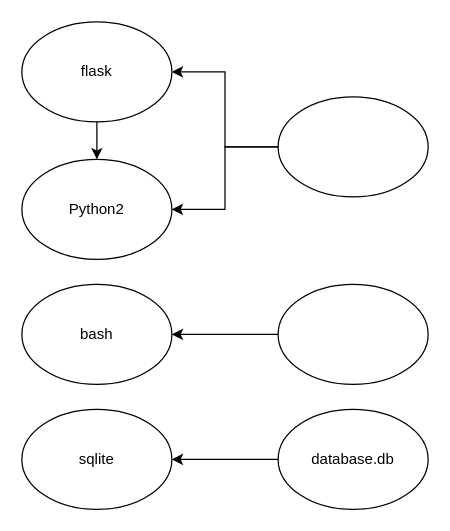
The diagram is 450 pixels wide and 531 high, and some of its shapes have lost their labels. The centre of each missing label's shape, as x and y in pixels:
"control.sh" goes at point 352,333.
"minitwit.py" goes at point 352,146.
